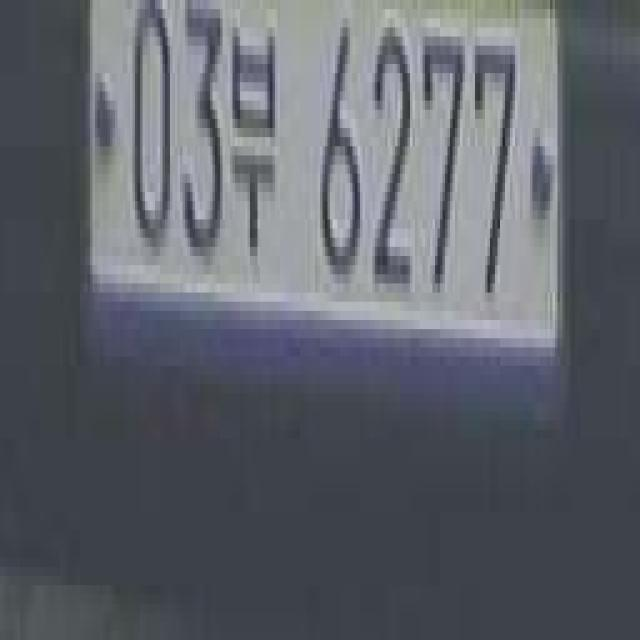illegal_plate: (80, 0, 572, 401)
